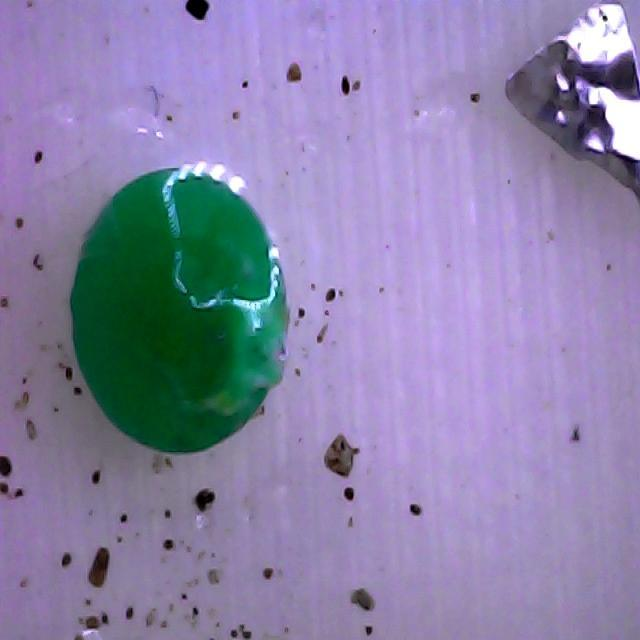beads: (48, 152, 308, 469)
fragments: (508, 3, 640, 197)
